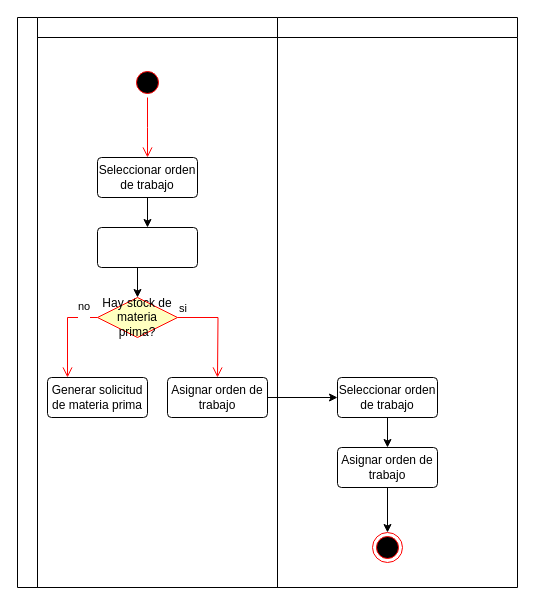
The diagram is 535 pixels wide and 605 high, and some of its shapes have lost their labels. Here are the shapes that lost their labels. From the top down, the box of each, then its label:
(96, 226, 198, 268): Supervisar orden de trabajo
(36, 16, 278, 588): GERENTE DE PRODUCCIÓN
(276, 16, 518, 588): OPERARIO
